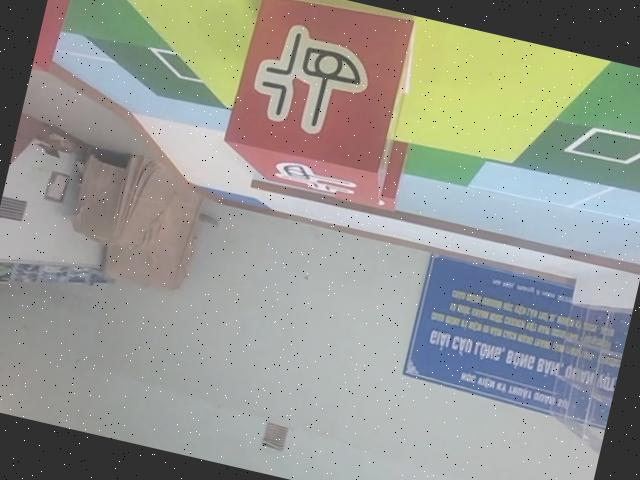R2 Real: (210, 0, 426, 210)
